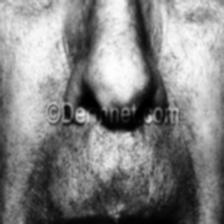Non-Cancerous Skin Condition: (50, 5, 198, 102), (30, 134, 206, 178)
